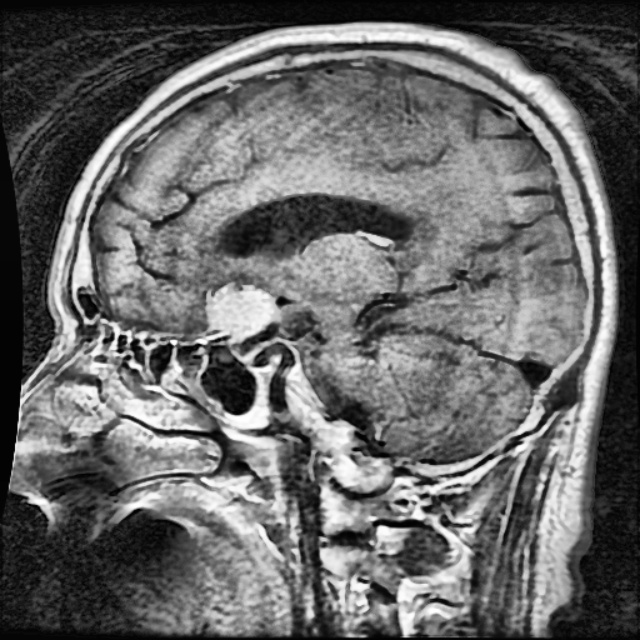Pituitary: (207, 285, 277, 339)
